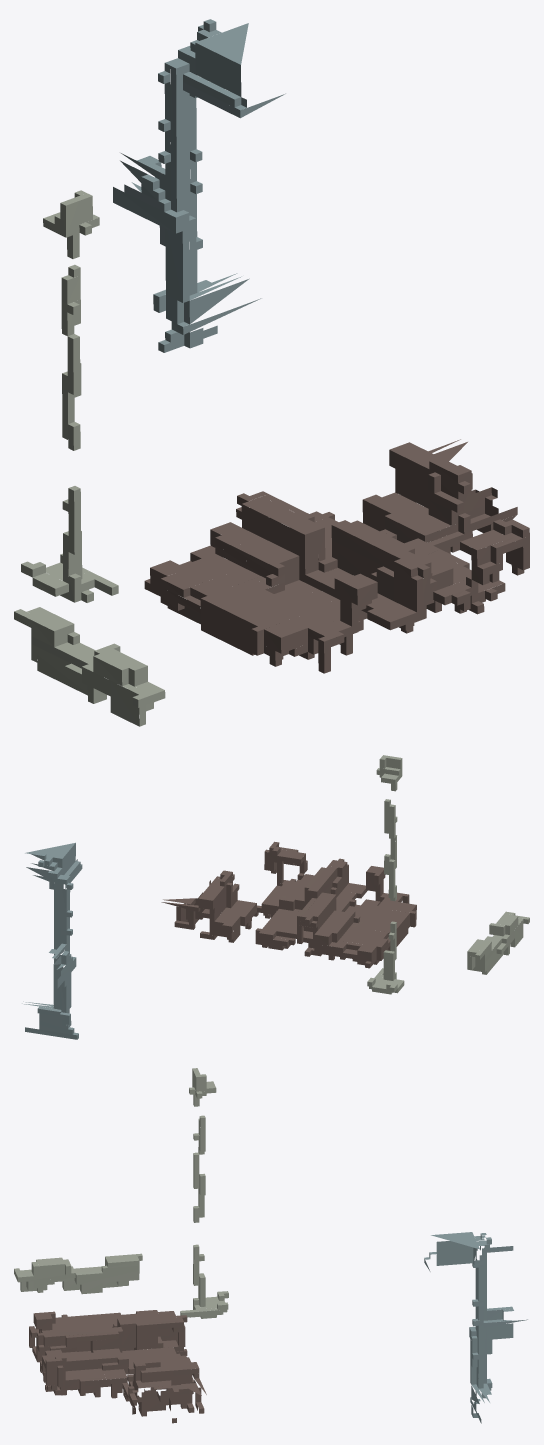
3 renders of one model, top to bottom at view 1: azimuth 30°, elevation 25°; view 2: azimuth 150°, elevation 25°; view 3: azimuth 270°, elevation 25°, orthographic. The views are drawn at different scales.
Parts seen in each view (by area): view 1: measured-industrial; view 2: measured-industrial; view 3: measured-industrial.
Boxes of the visible parts, left/top/right/bottom form: measured-industrial: left=14, top=19, right=529, bottom=726; measured-industrial: left=22, top=755, right=529, bottom=1039; measured-industrial: left=14, top=1068, right=527, bottom=1423.
Size of the model in its own units: 69.52 by 50.06 by 96.77.
